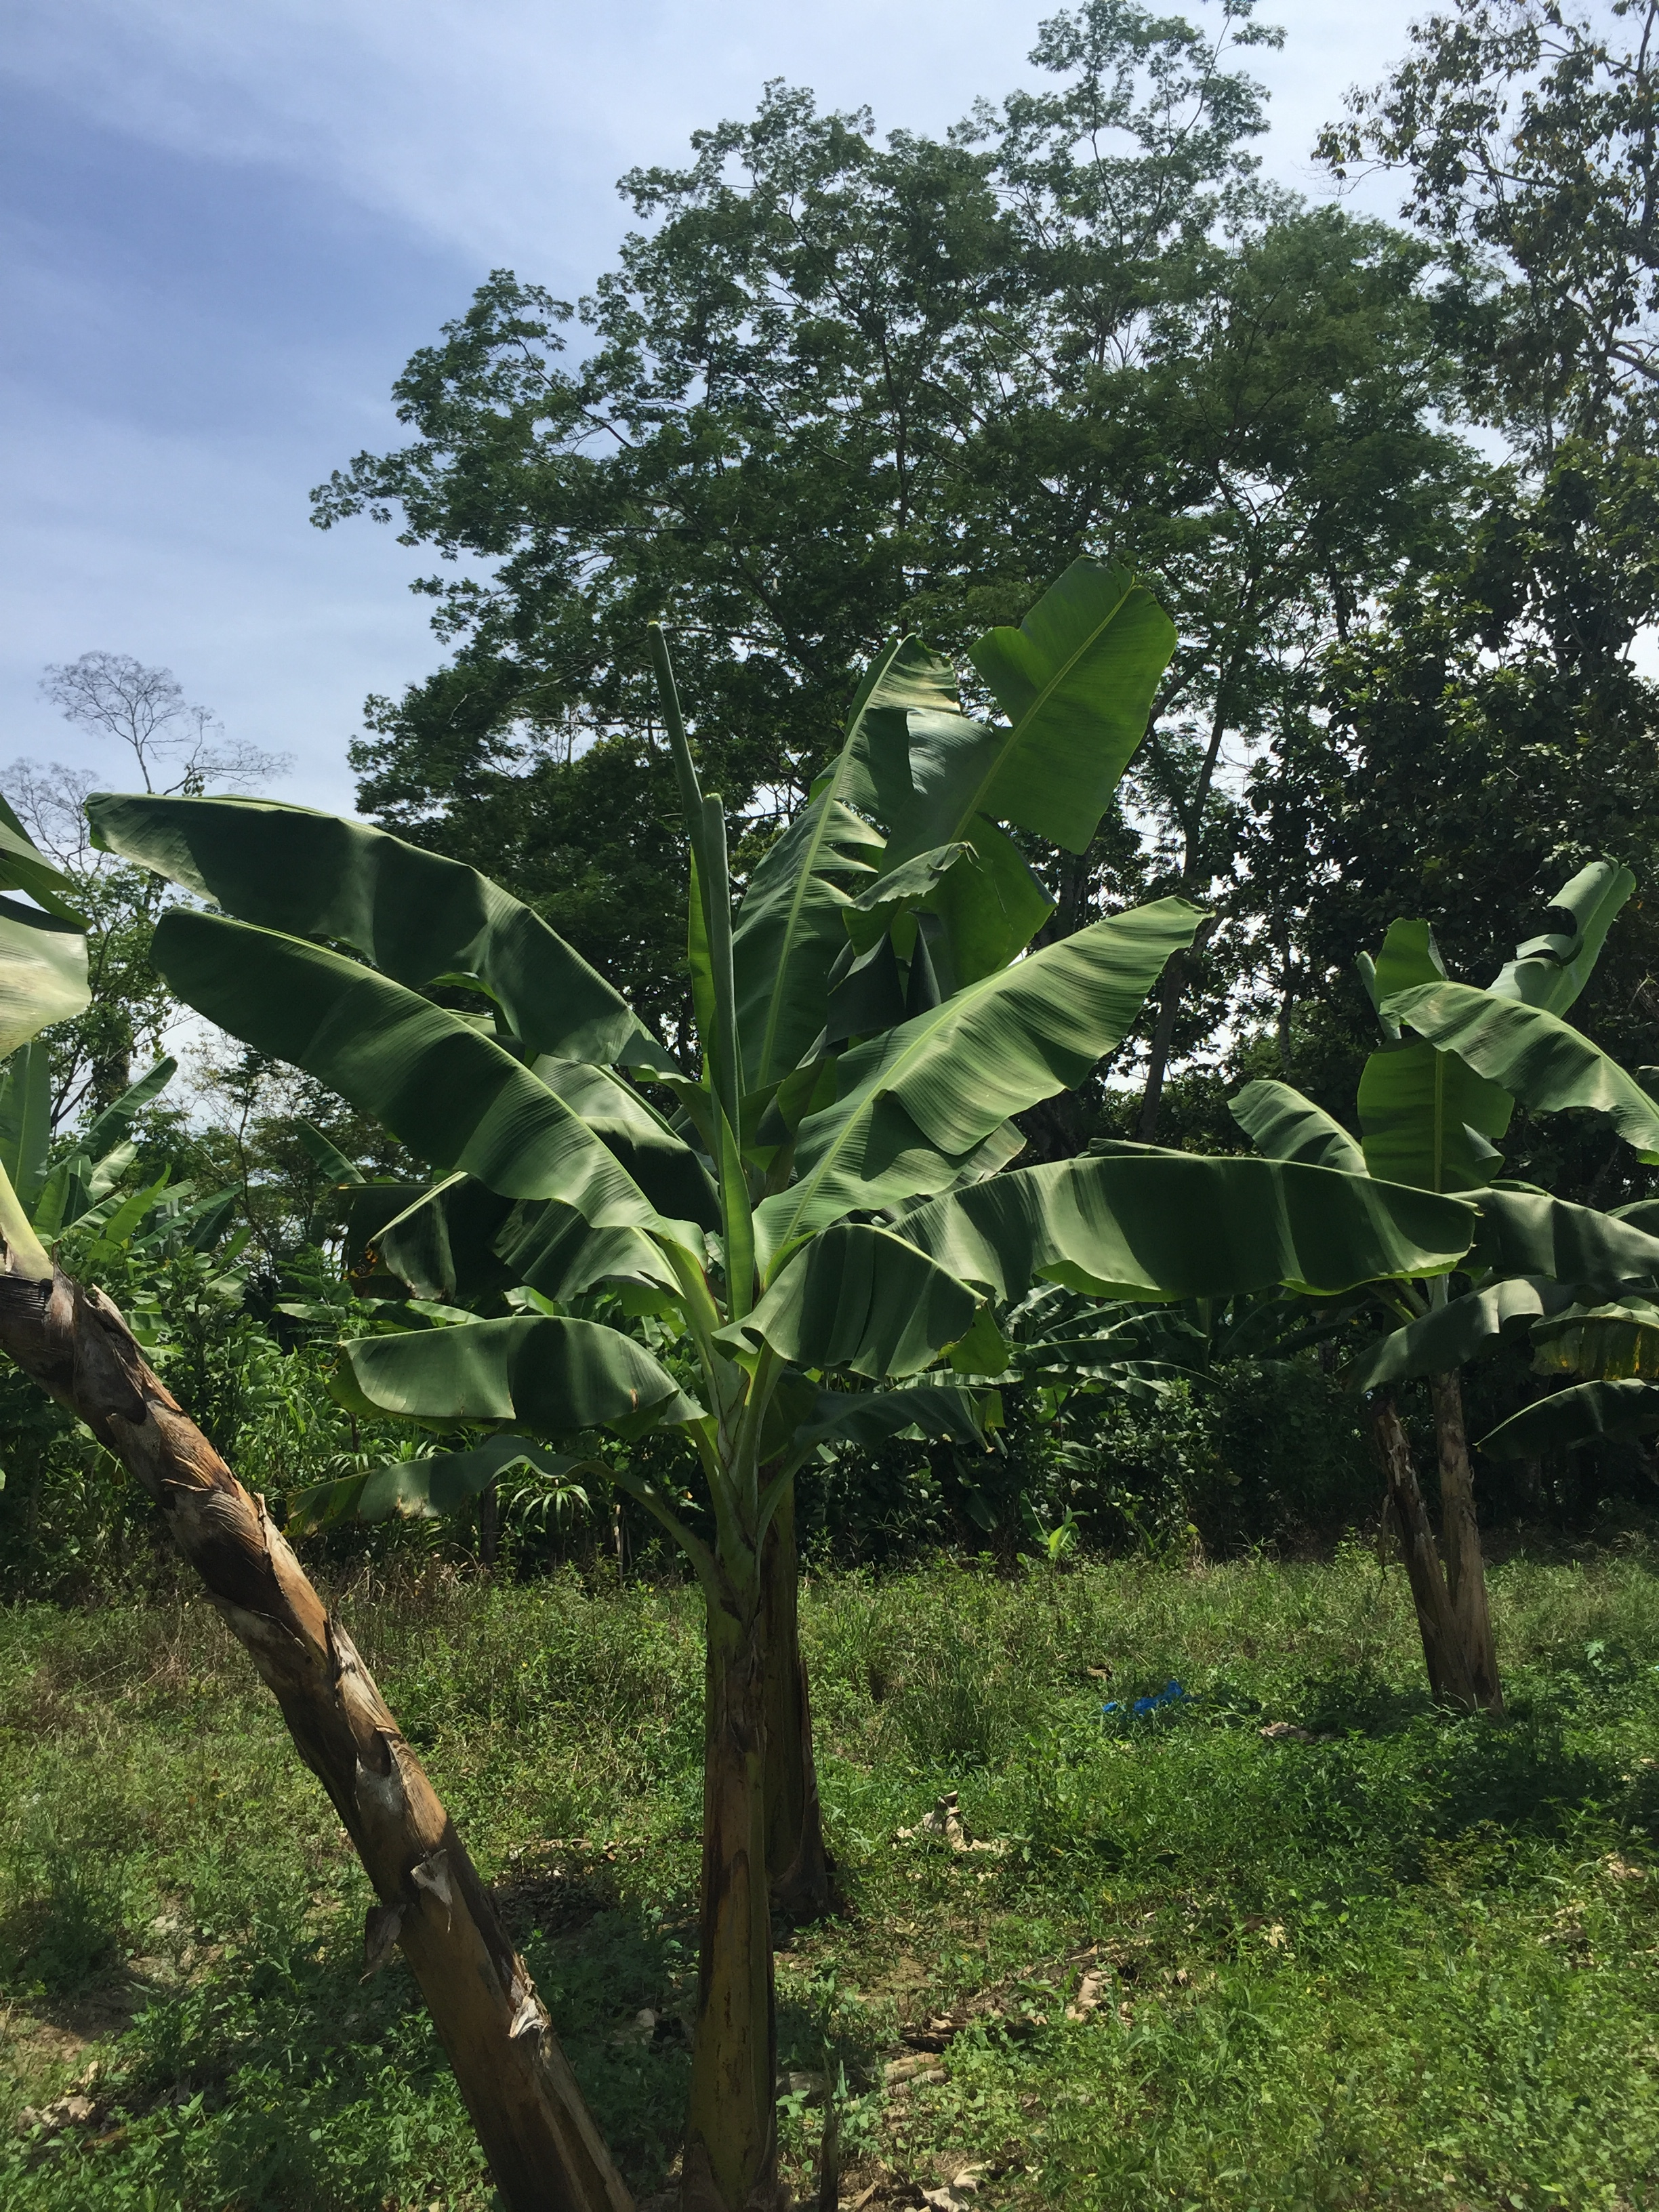candleleafs: (648, 624, 760, 1301)
